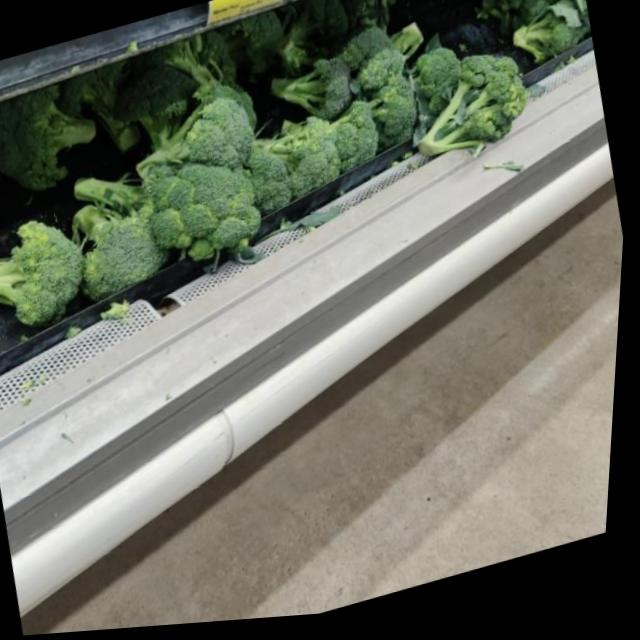Broccoli: (131, 108, 296, 279), (401, 16, 549, 177), (266, 0, 436, 129), (251, 79, 399, 218), (0, 69, 120, 202), (0, 206, 104, 353), (71, 191, 188, 311)
